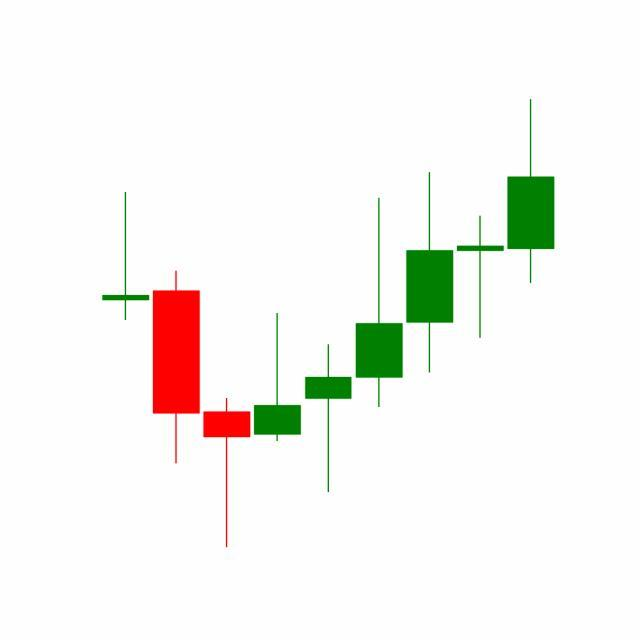Hikkake Pattern: (302, 99, 555, 498)
